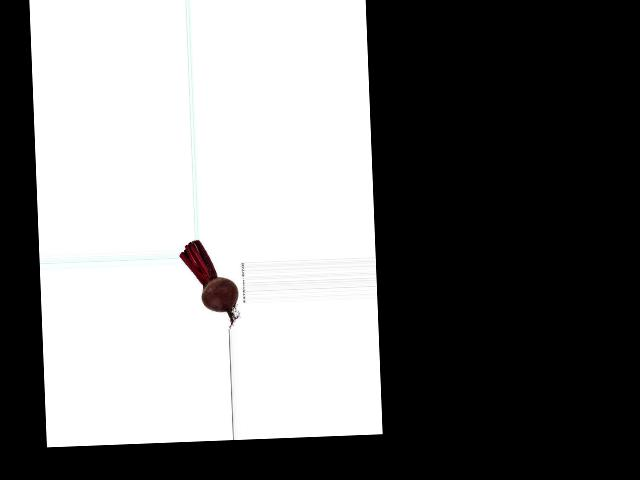beet: (179, 238, 239, 329)
